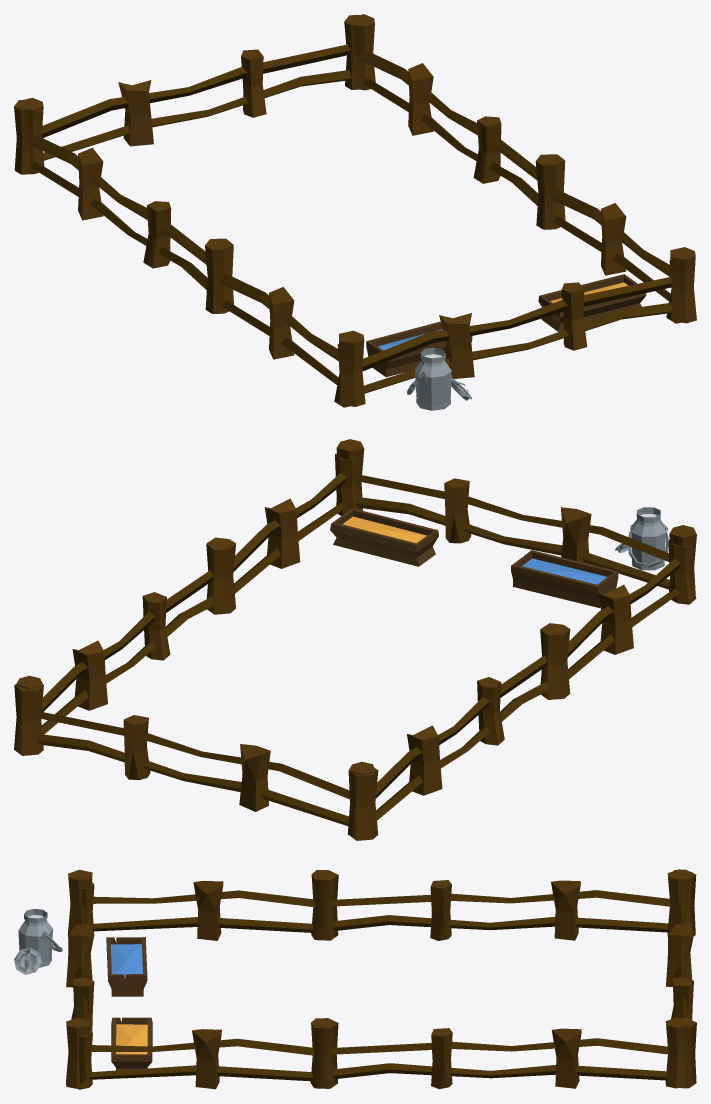
File: Fence.glb
The picture shows the model from 3 angles, top to bottom: view 1: azimuth 30°, elevation 25°; view 2: azimuth 150°, elevation 25°; view 3: azimuth 270°, elevation 25°; orthographic projection. The views are drawn at different scales.
Visible parts, largest first — view 1: fence; view 2: fence; view 3: fence.
Boxes of the visible parts, x1,y1,x2,y2 form: fence: [14, 14, 696, 410]; fence: [14, 439, 696, 840]; fence: [14, 869, 696, 1089].
Size of the model in its own units: 7.12 by 1.33 by 12.51.
